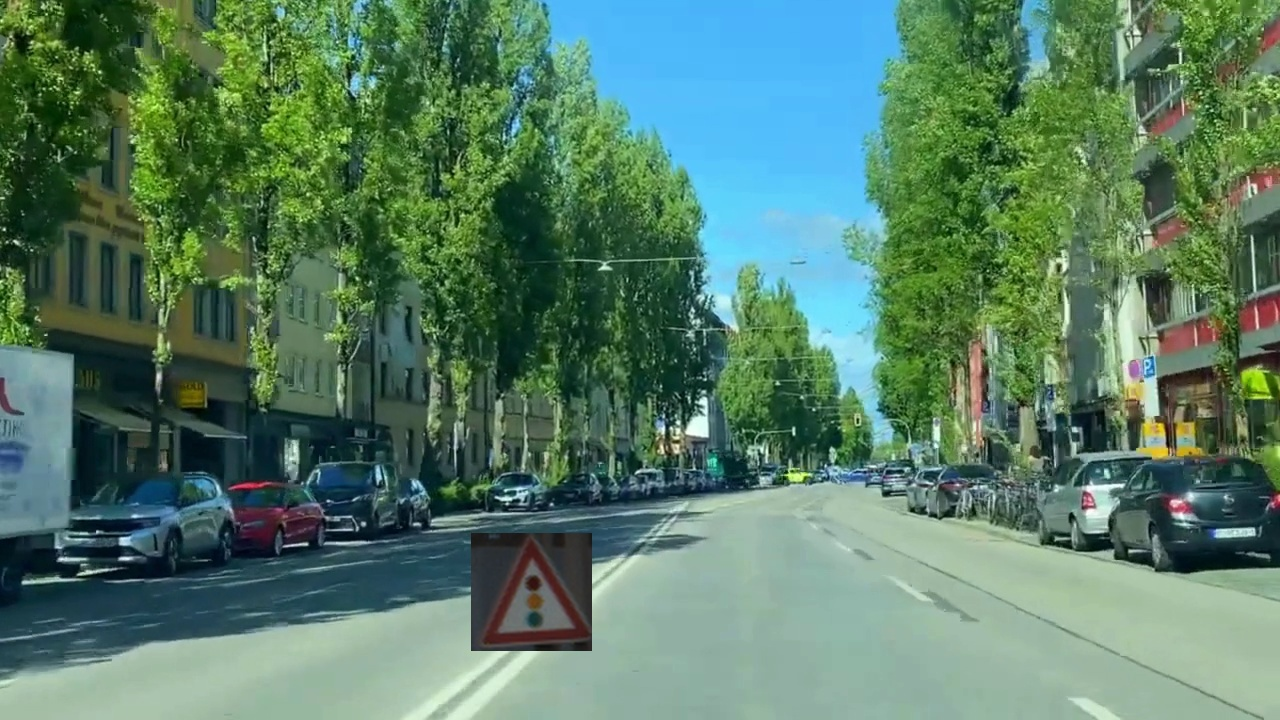Signals: (471, 533, 592, 651)
